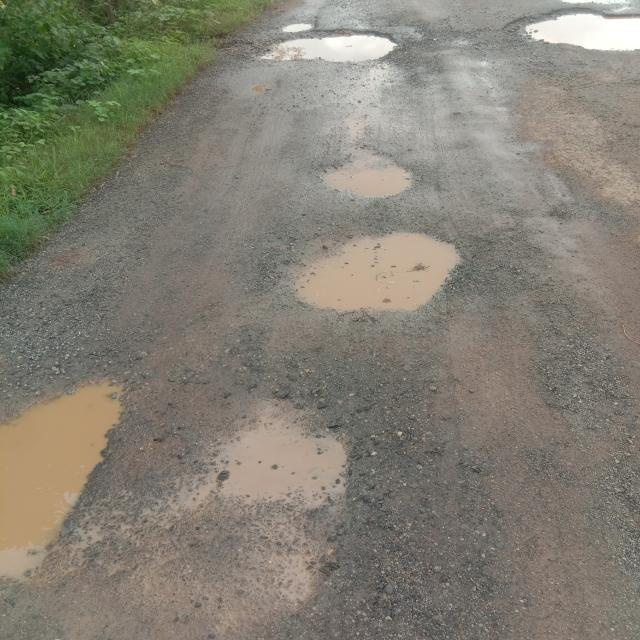potholes: (0, 371, 136, 590), (275, 229, 467, 326), (244, 17, 413, 69), (505, 6, 640, 55), (322, 143, 426, 206)
